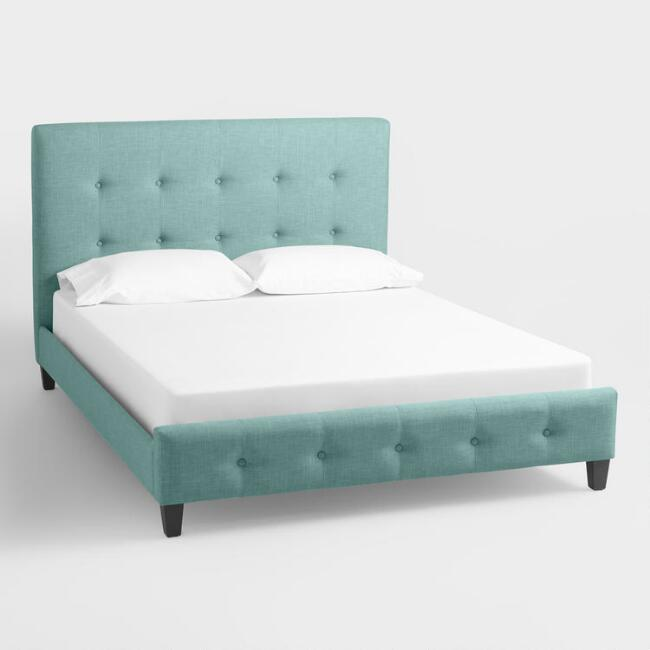bed: (24, 108, 633, 566)
